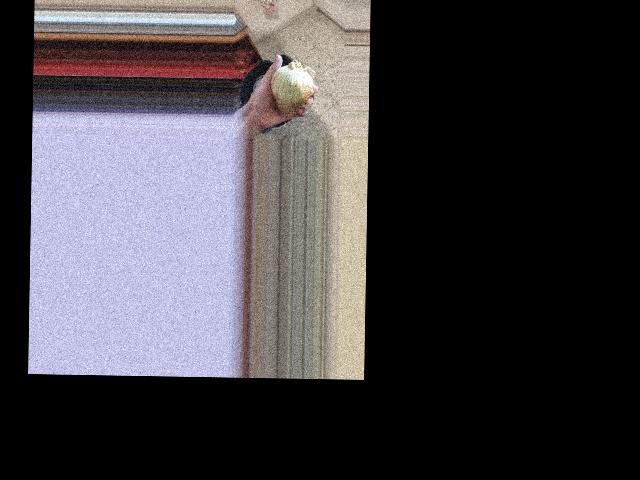onion: (268, 62, 312, 116)
